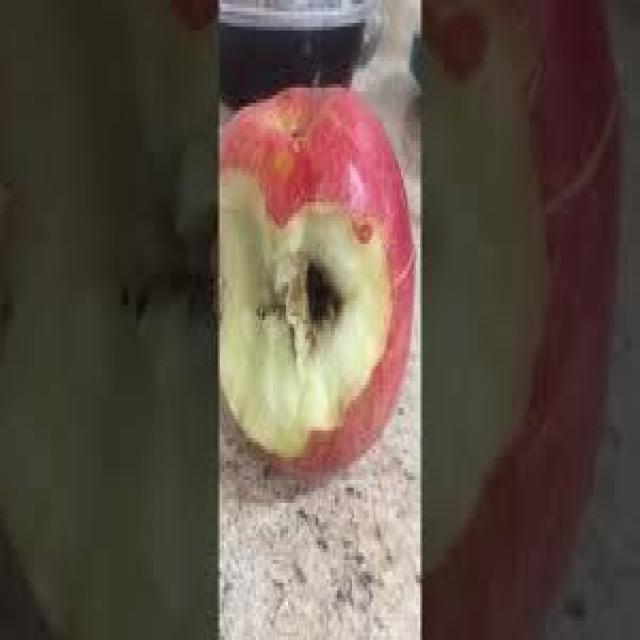maca: (215, 80, 412, 469)
